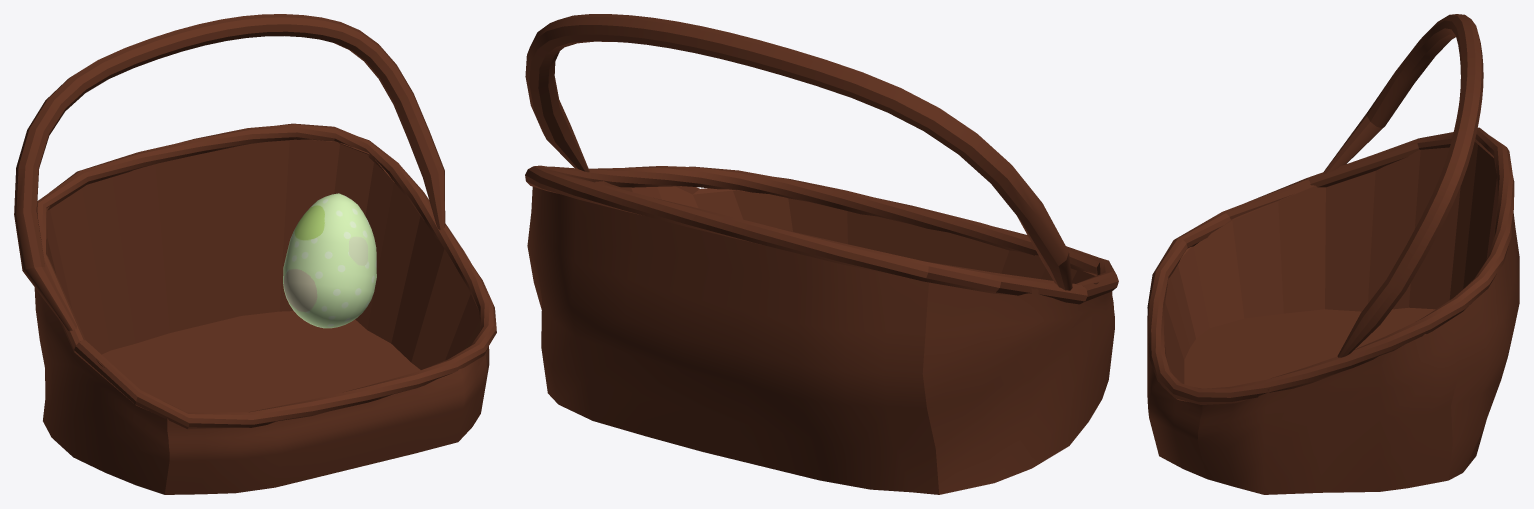
Rendered from basket.fbx.
3 renders of one model, left to right at view 1: azimuth 30°, elevation 25°; view 2: azimuth 150°, elevation 25°; view 3: azimuth 270°, elevation 25°, orthographic. The views are drawn at different scales.
Parts seen in each view (by area): view 1: pCube1, pCylinder1, pCylinder2, easteregg3:pSphere1; view 2: pCube1, pCylinder1, pCylinder2; view 3: pCube1, pCylinder1, pCylinder2.
Part boxes in pixels (<box>): pCube1: <box>34,139,489,494</box>; pCylinder1: <box>37,123,496,429</box>; pCylinder2: <box>14,14,445,330</box>; easteregg3:pSphere1: <box>283,193,376,328</box>; pCube1: <box>527,181,1114,494</box>; pCylinder1: <box>525,165,1118,304</box>; pCylinder2: <box>525,14,1072,290</box>; pCube1: <box>1147,142,1519,494</box>; pCylinder1: <box>1147,127,1514,404</box>; pCylinder2: <box>1323,14,1483,357</box>.
Bounding box in the file's own units: 6.41 × 4.85 × 4.82.
2 materials, 1 textured.
